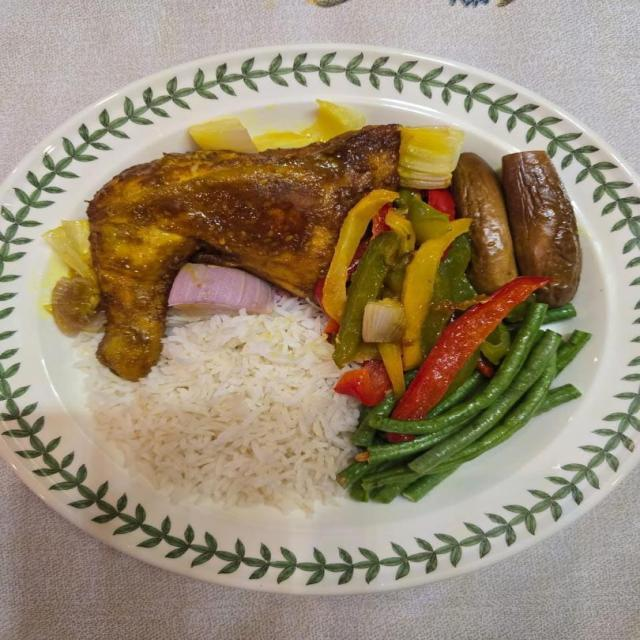Chicken: (81, 120, 414, 387)
Plate: (0, 50, 639, 586)
Rice: (75, 294, 364, 518)
Vegetables: (176, 91, 601, 512)
